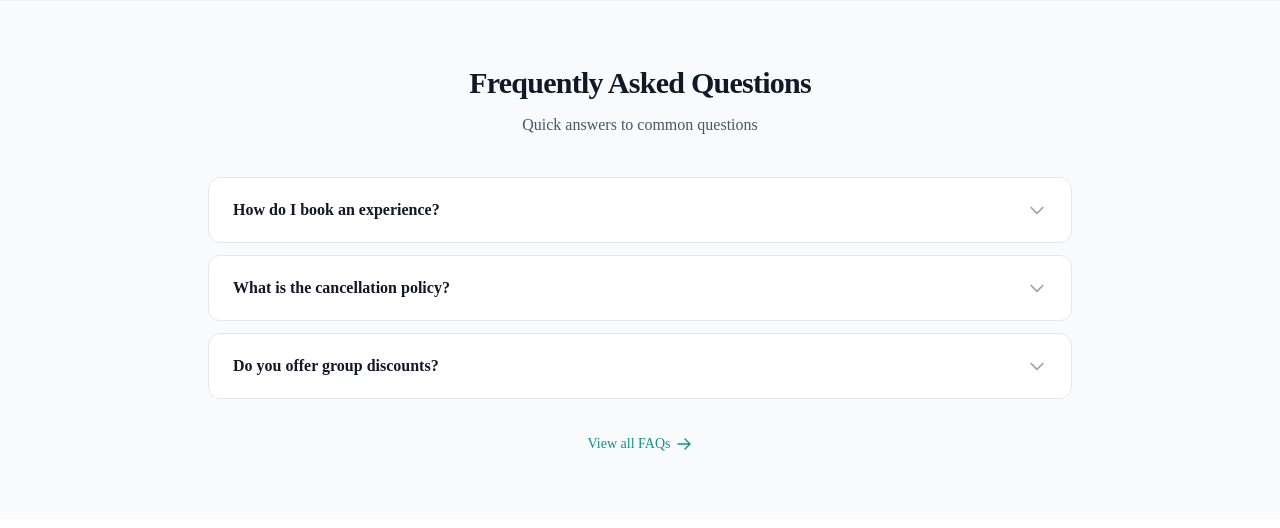
Test case: AboutFaqSection › only one FAQ is expanded at a time
// Expand first
Click the button "How do I book an experience?".
click(336, 210)  # box left=209, top=178, right=1071, bottom=242
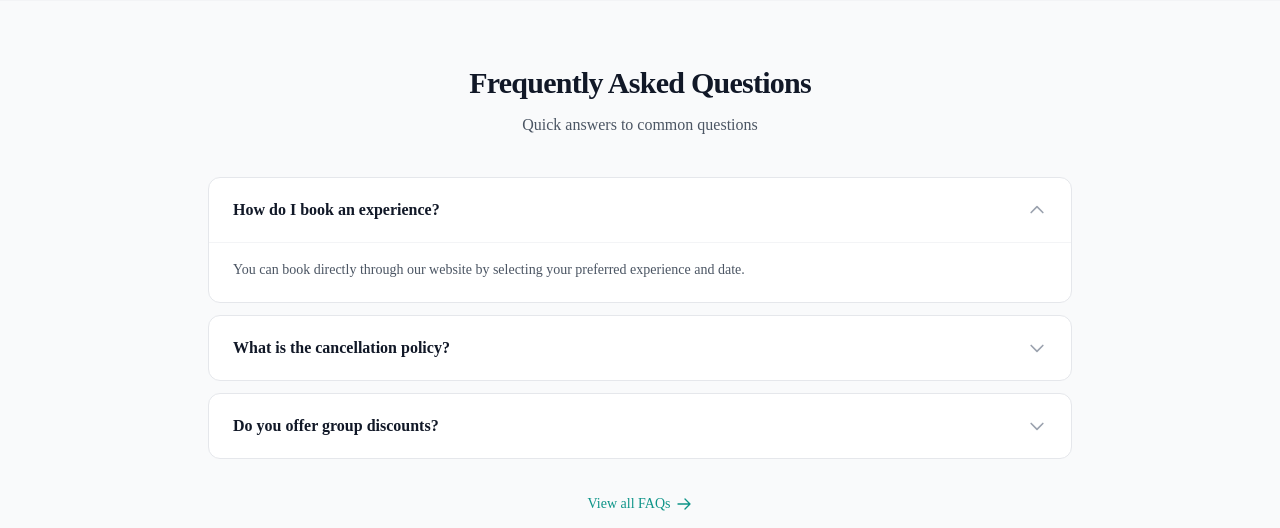
Expected: the text "You can book directly through our website" is shown, left=233, top=262, right=745, bottom=277
// Expand second — first should collapse
Click the button "What is the cancellation policy?".
click(341, 347)  # box left=209, top=316, right=1071, bottom=380
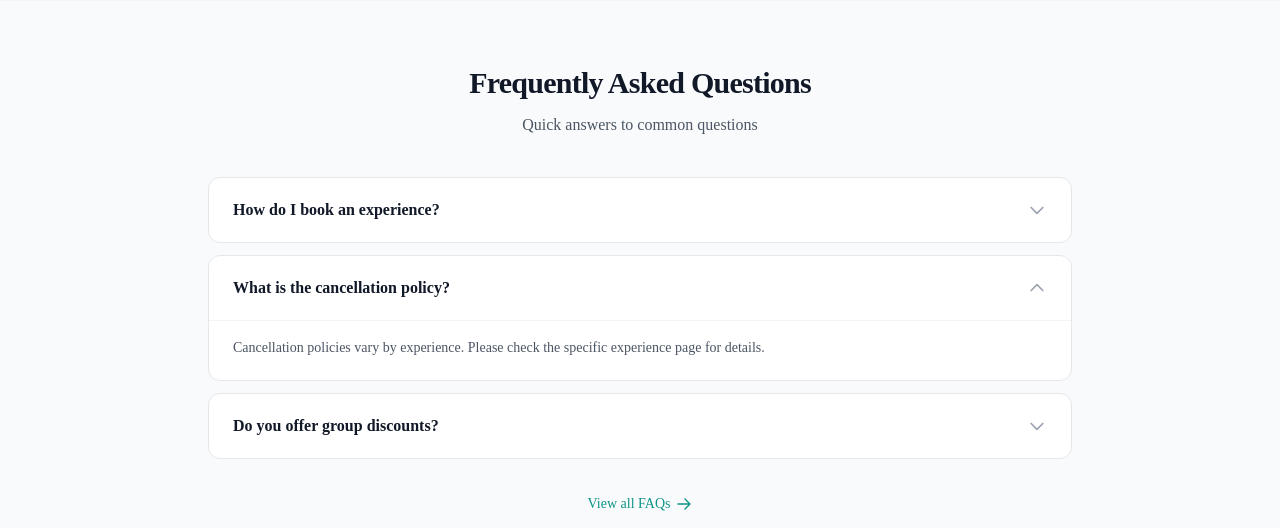
Expected: the text "You can book directly through our website" is gone
Expected: the text "Cancellation policies vary by experience" is shown, left=233, top=340, right=765, bottom=355
